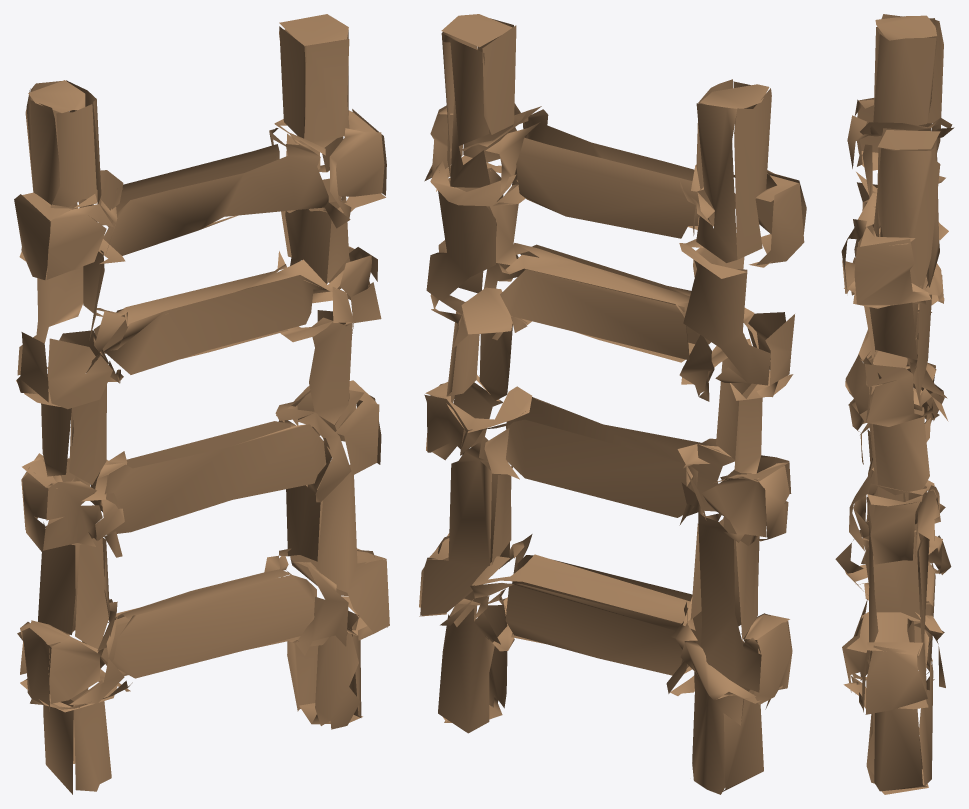
Rendered from escalera.glb.
3 renders of one model, left to right at view 1: azimuth 30°, elevation 25°; view 2: azimuth 150°, elevation 25°; view 3: azimuth 270°, elevation 25°, orthographic. The views are drawn at different scales.
Parts seen in each view (by area): view 1: escalera; view 2: escalera; view 3: escalera.
Part boxes in pixels (x1,y1,x2,y2): escalera: [14, 14, 389, 794]; escalera: [419, 14, 806, 794]; escalera: [835, 14, 954, 794].
Bounding box in the file's own units: 0.5234 × 0.9951 × 0.1669.
